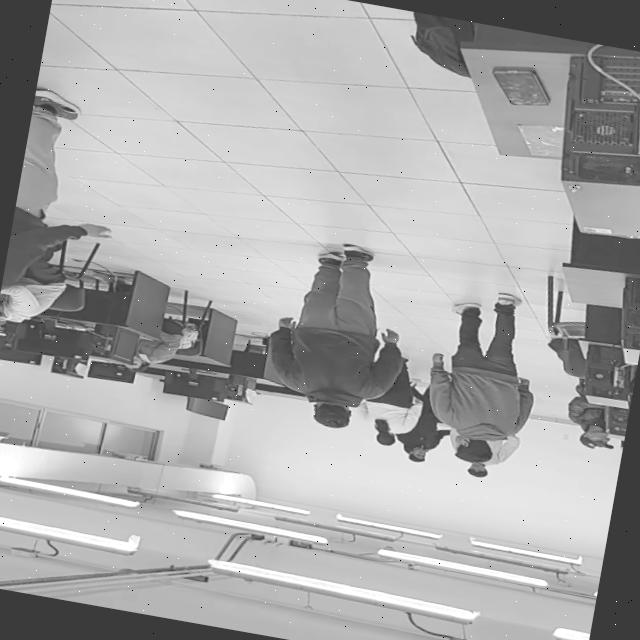Persona: (0, 92, 109, 355), (274, 232, 400, 428), (422, 286, 532, 468), (354, 387, 416, 450), (396, 422, 436, 469), (455, 460, 510, 490)
